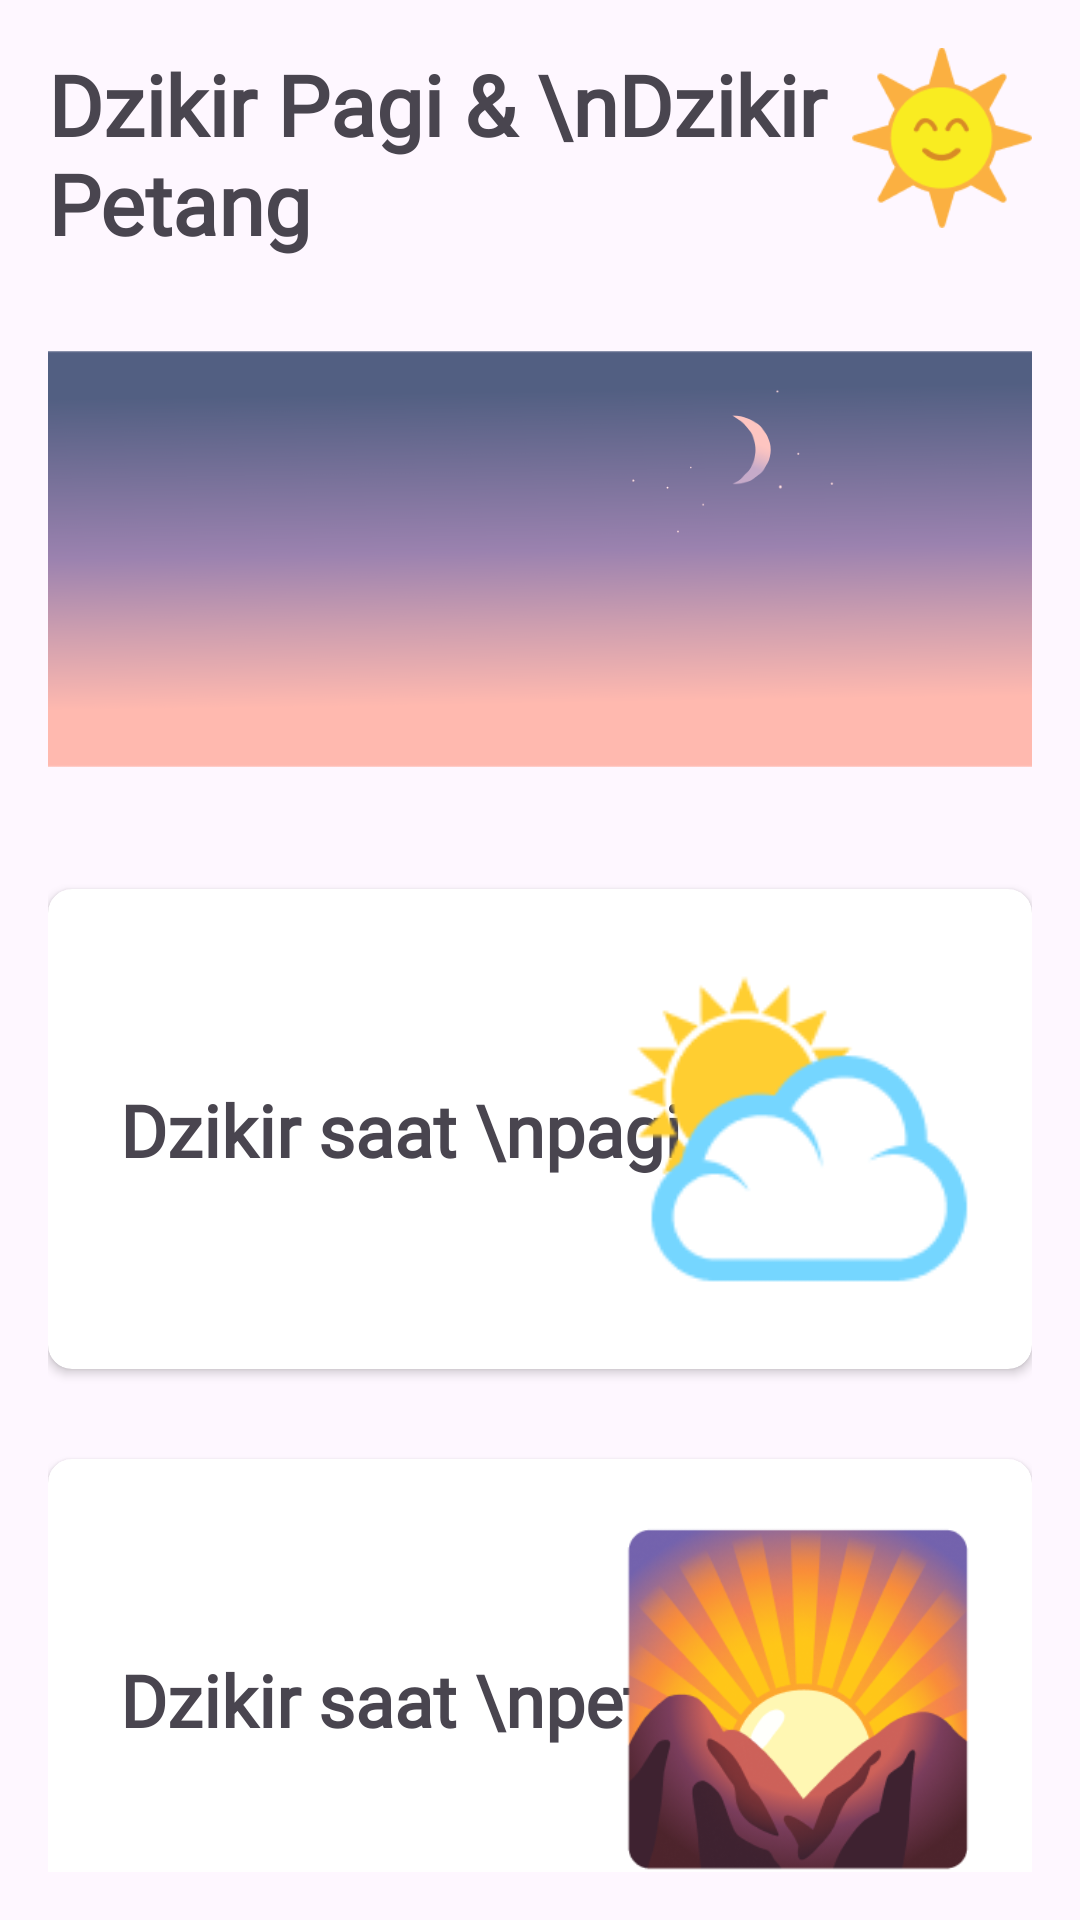

Point at icon controls on the screen. Image size 1080*1920, points as point (x, y).
sunrise: point (795, 1700)
sunsmile: point (942, 138)
